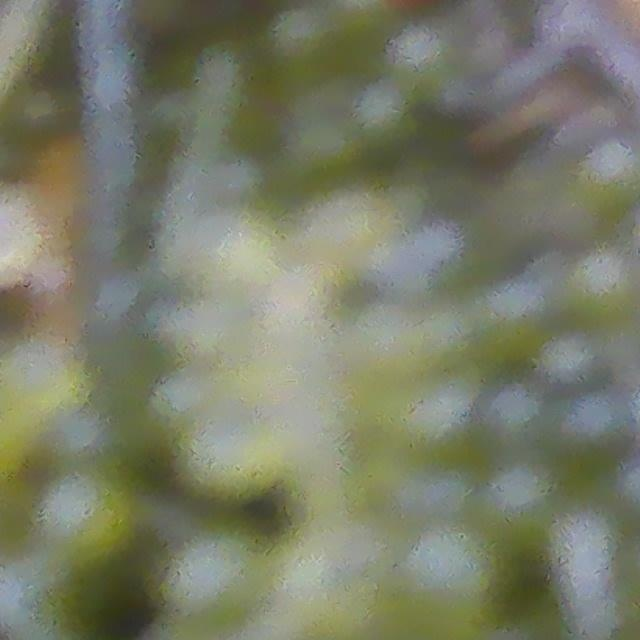SeaGrape: (169, 525, 272, 622), (38, 472, 139, 567), (403, 522, 498, 606), (566, 249, 636, 321)
